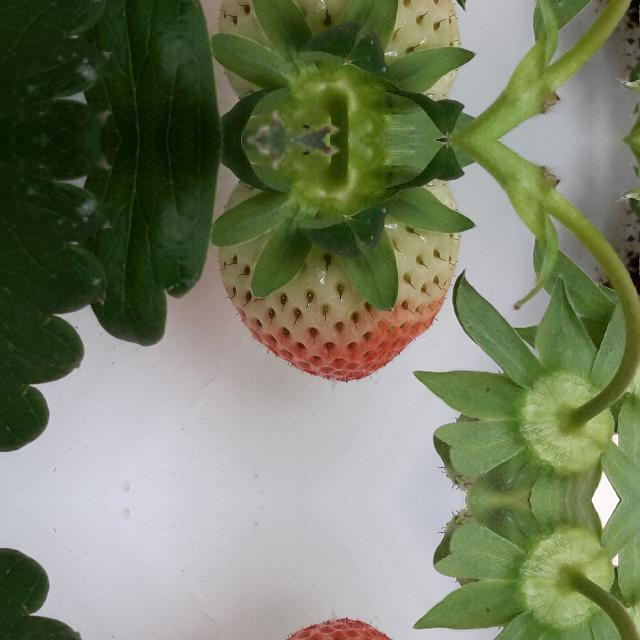Health_100: (218, 180, 460, 384), (217, 0, 460, 99)
